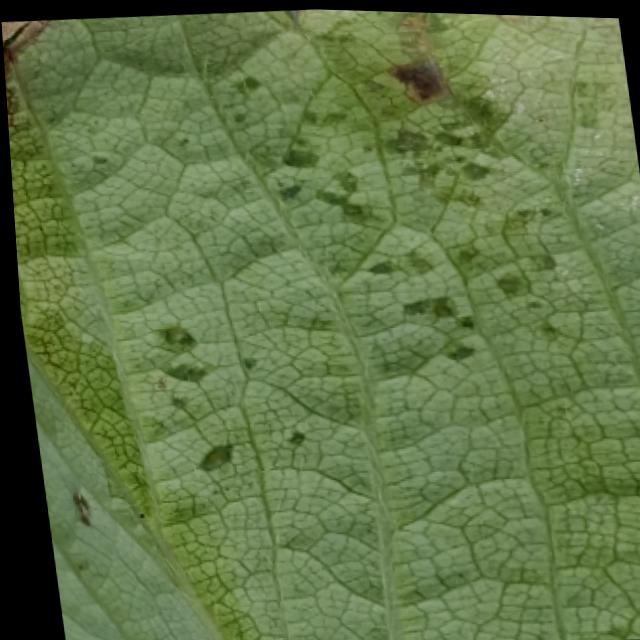Angular Leafspot: (1, 7, 640, 602)
